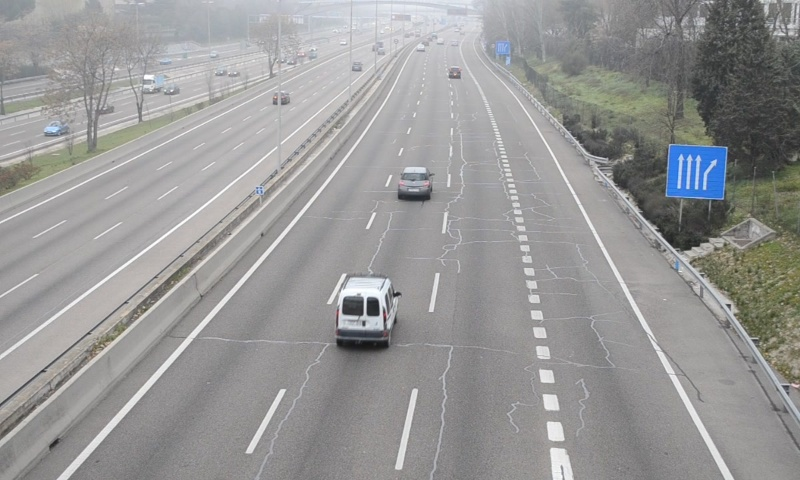car: (397, 166, 433, 197)
van: (334, 277, 398, 344)
